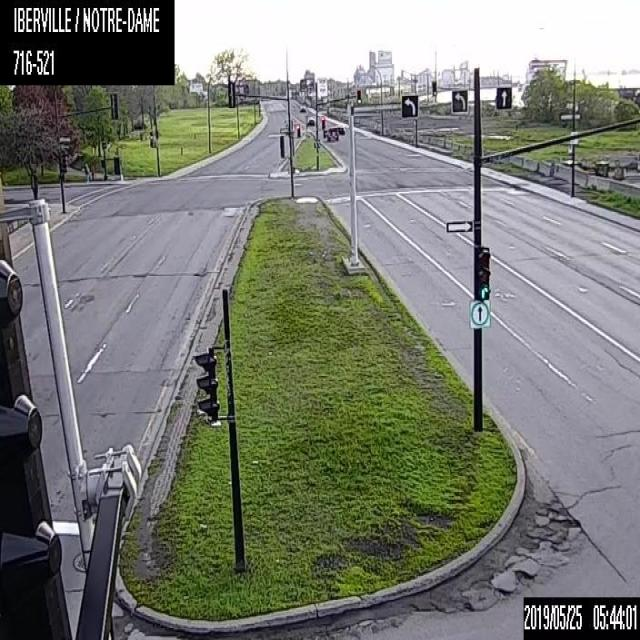vehicle: (326, 126, 338, 140), (335, 124, 345, 134), (306, 117, 315, 125), (299, 104, 305, 112)
